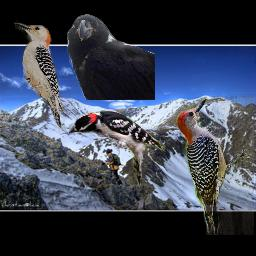Crow: (66, 14, 155, 100)
Woodpecker: (172, 96, 254, 235), (69, 109, 166, 188), (14, 18, 68, 135)
